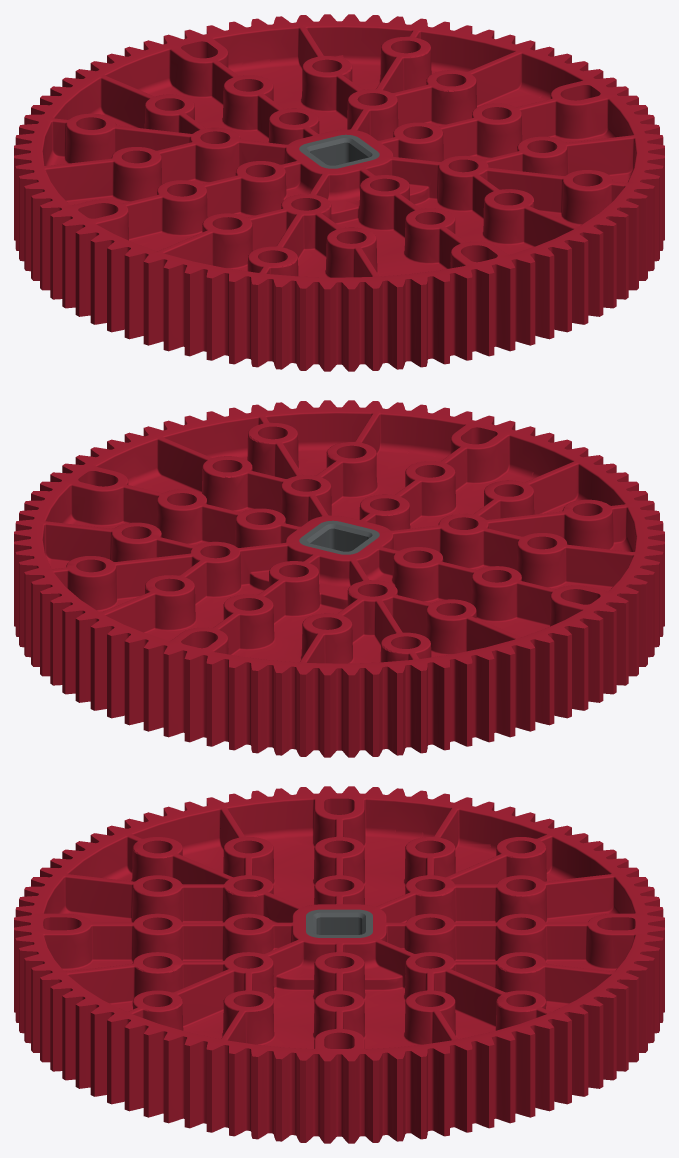
File: 84t-high-strength-gear-v2-4-pack.glb
The picture shows the model from 3 angles, top to bottom: view 1: azimuth 30°, elevation 25°; view 2: azimuth 150°, elevation 25°; view 3: azimuth 270°, elevation 25°; orthographic projection.
Parts seen in each view (by area): view 1: 276-7749-001_OVERMOLD Rev3_84T 24DP Gear Rev1, 276-7573-002 Rev7; view 2: 276-7749-001_OVERMOLD Rev3_84T 24DP Gear Rev1, 276-7573-002 Rev7; view 3: 276-7749-001_OVERMOLD Rev3_84T 24DP Gear Rev1, 276-7573-002 Rev7.
Part boxes in pixels (x1,y1,x2,y2): 276-7749-001_OVERMOLD Rev3_84T 24DP Gear Rev1: [14, 14, 664, 371]; 276-7573-002 Rev7: [299, 134, 379, 168]; 276-7749-001_OVERMOLD Rev3_84T 24DP Gear Rev1: [14, 400, 664, 757]; 276-7573-002 Rev7: [299, 520, 379, 554]; 276-7749-001_OVERMOLD Rev3_84T 24DP Gear Rev1: [14, 786, 664, 1143]; 276-7573-002 Rev7: [306, 909, 372, 937].
Size of the model in its own units: 0.091 by 0.0127 by 0.091.
